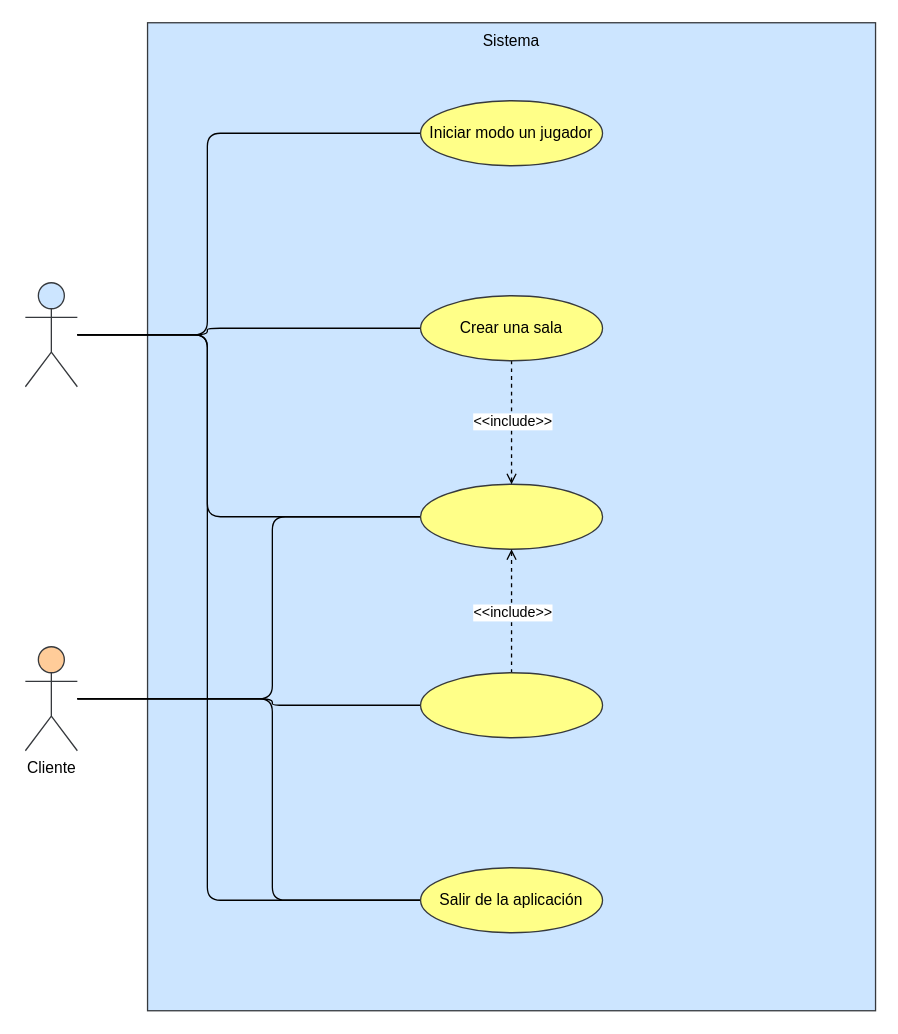
Some shapes in this 898 by 1034 pixel diagram are drawn without their labels. Here are the shapes that lost their labels. From the top down, the centre of each, then its label:
At point 50,334: "Anfitrión".
At point 511,516: "Iniciar modo multijugador".
At point 511,704: "Unirse a una sala".
